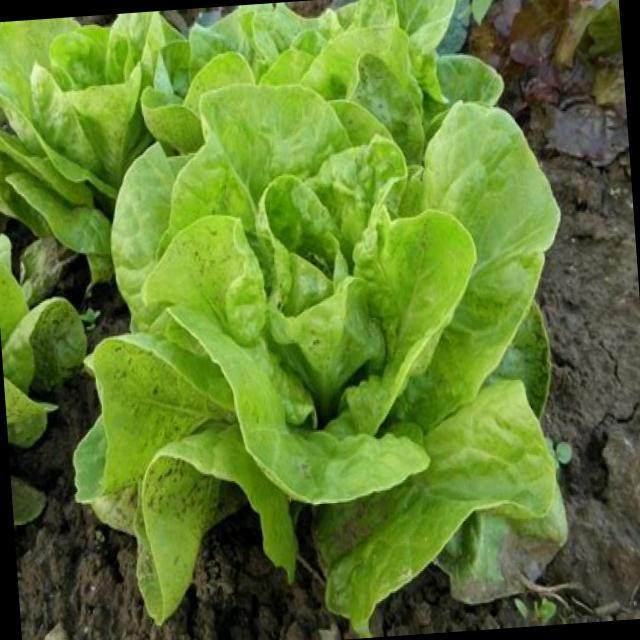Lettuce-Ready-to-Harvest: (121, 99, 516, 562)
